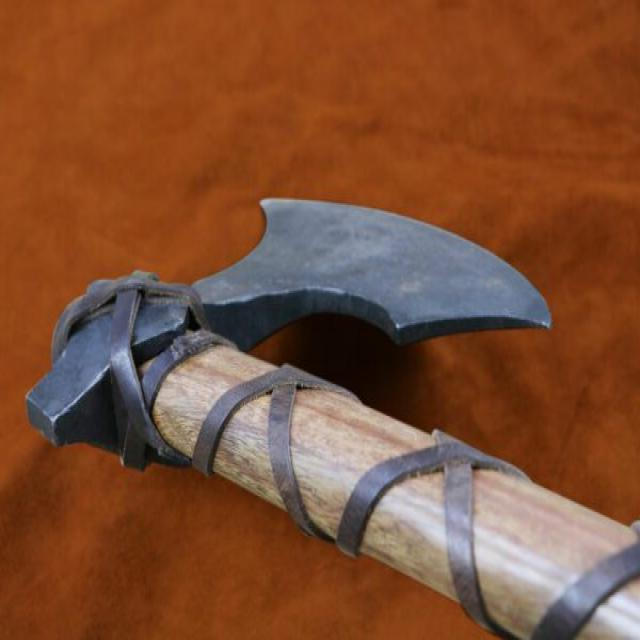axe: (25, 193, 640, 640)
